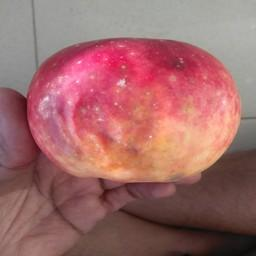Bad_apple: (29, 38, 237, 170)
